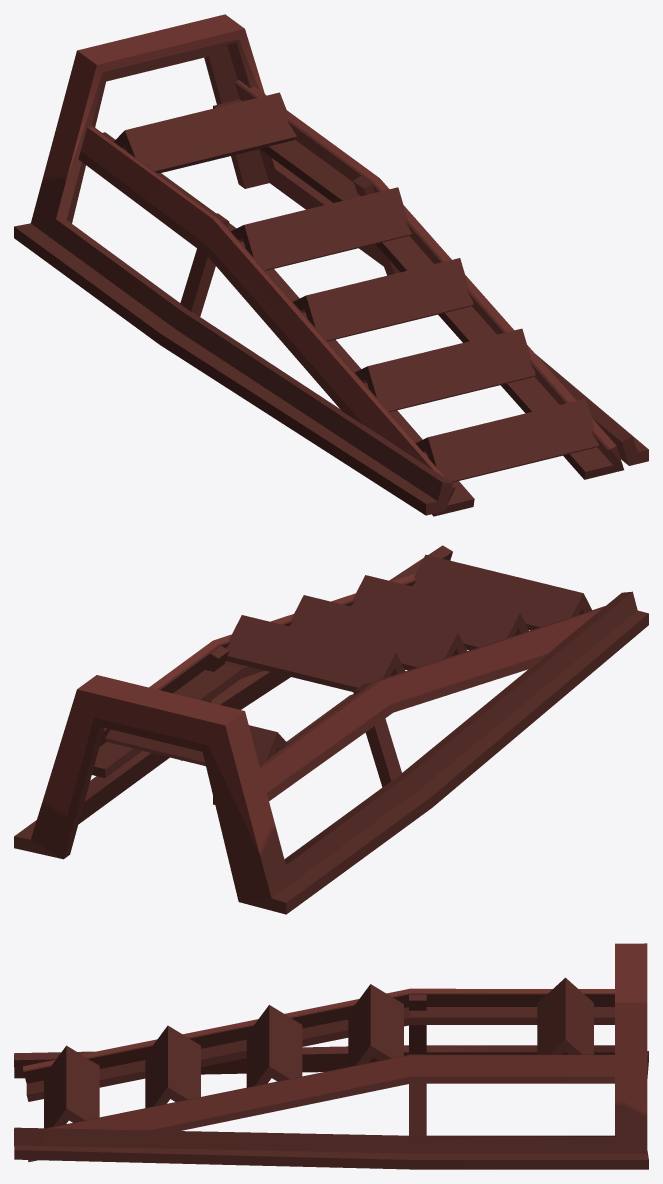
Rendered from SM_Prop_CarRamp_01.fbx.
The picture shows the model from 3 angles, top to bottom: view 1: azimuth 30°, elevation 25°; view 2: azimuth 150°, elevation 25°; view 3: azimuth 270°, elevation 25°; orthographic projection. The views are drawn at different scales.
Parts seen in each view (by area): view 1: SM_Prop_CarRamp_01; view 2: SM_Prop_CarRamp_01; view 3: SM_Prop_CarRamp_01.
Boxes of the visible parts, left/top/right/bottom form: SM_Prop_CarRamp_01: left=14, top=14, right=648, bottom=516; SM_Prop_CarRamp_01: left=14, top=545, right=648, bottom=914; SM_Prop_CarRamp_01: left=14, top=943, right=648, bottom=1169.
Size of the model in its own units: 63.38 by 41.02 by 156.
